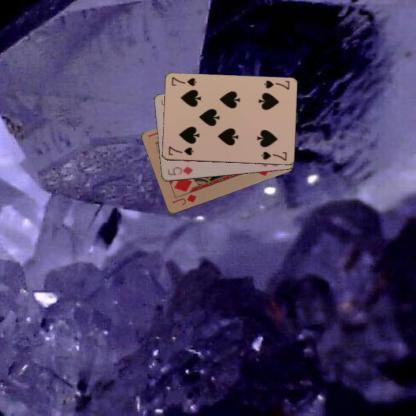5d: (165, 163, 194, 177)
7s: (261, 78, 290, 91), (166, 144, 194, 156)
Jd: (169, 192, 198, 206)
